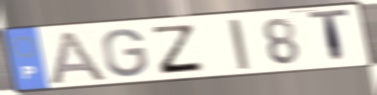8: (261, 16, 301, 66)
A: (46, 29, 110, 86)
G: (100, 27, 150, 79)
I: (225, 17, 253, 72)
T: (306, 7, 352, 66)
Z: (150, 24, 207, 76)
